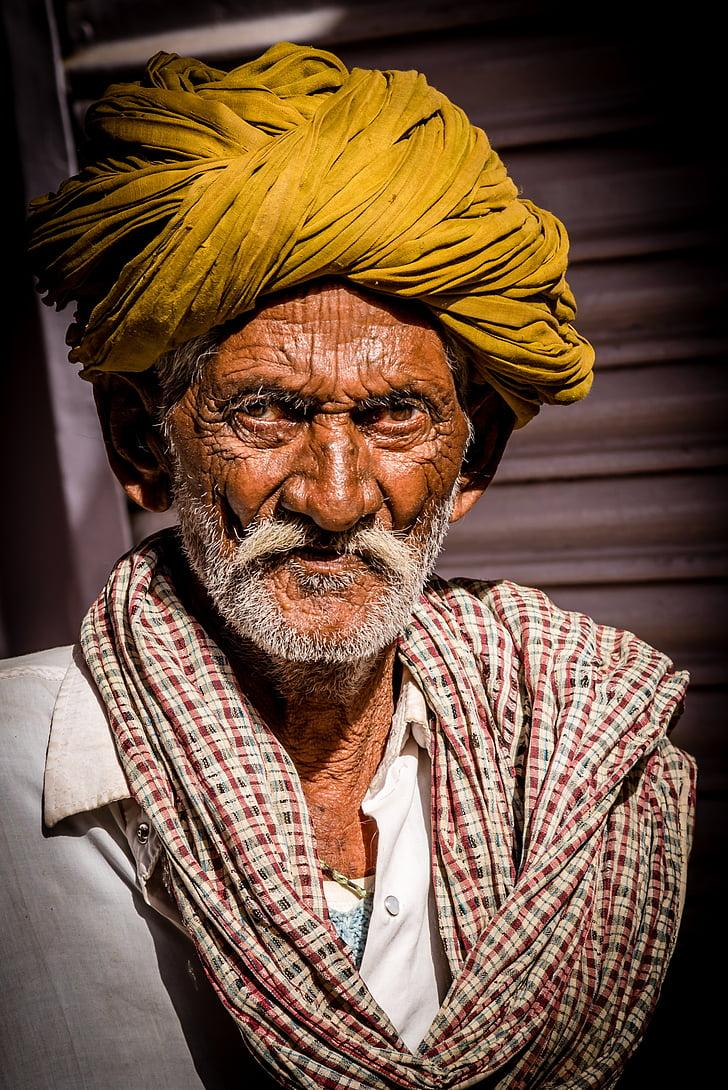cap: (10, 13, 728, 440)
